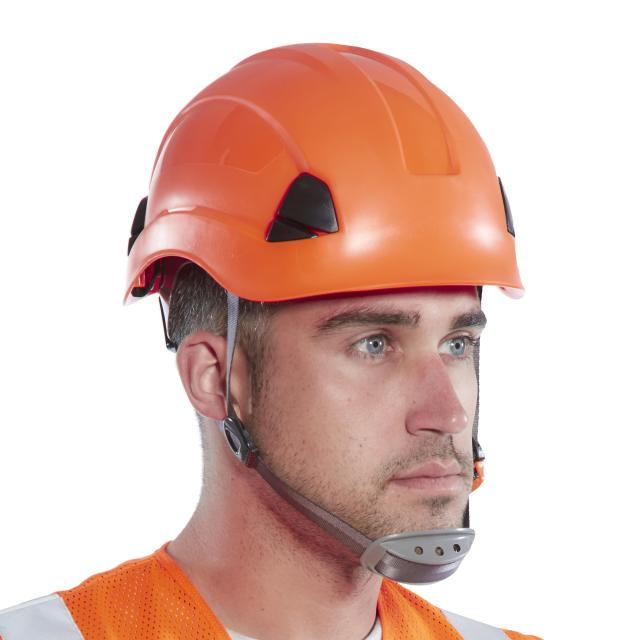illegal_helmet: (110, 36, 528, 596)
